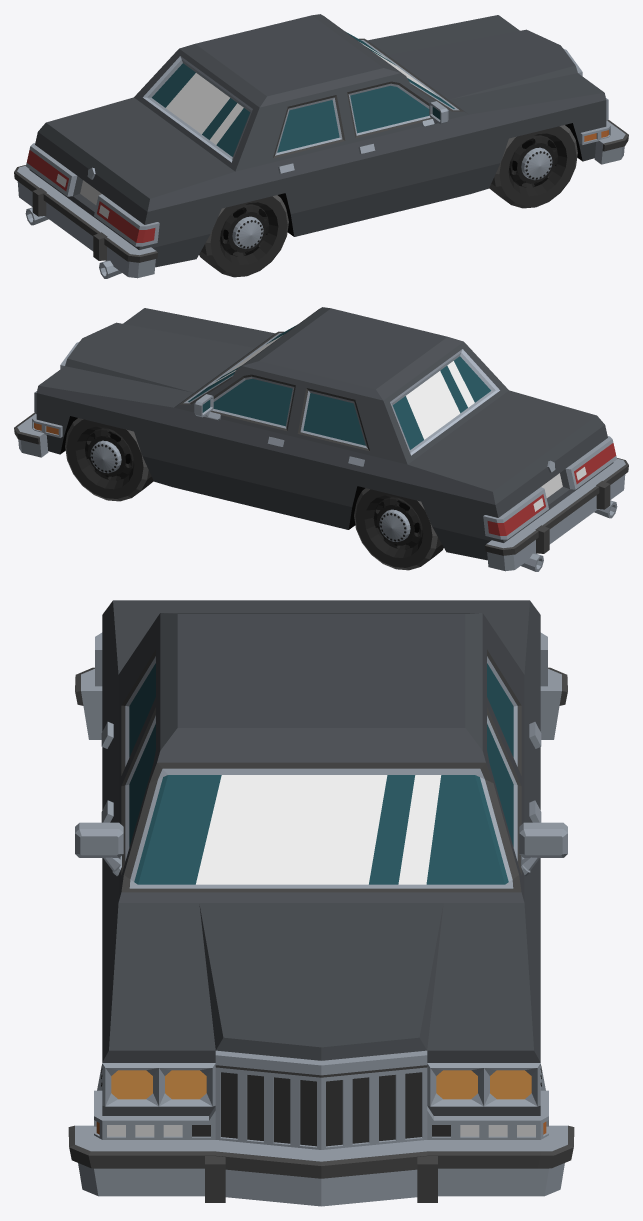
File: Car #2.fbx
The picture shows the model from 3 angles, top to bottom: view 1: azimuth 30°, elevation 25°; view 2: azimuth 150°, elevation 25°; view 3: azimuth 270°, elevation 25°; orthographic projection. The views are drawn at different scales.
Parts seen in each view (by area): view 1: Diplomat; view 2: Diplomat; view 3: Diplomat.
Boxes of the visible parts, x1=… form: Diplomat: x1=14, y1=14, x2=628, y2=278; Diplomat: x1=14, y1=307, x2=628, y2=571; Diplomat: x1=68, y1=600, x2=574, y2=1206.
Size of the model in its own units: 1343 by 400 by 570.
Materials: 1 (1 with a texture image).
